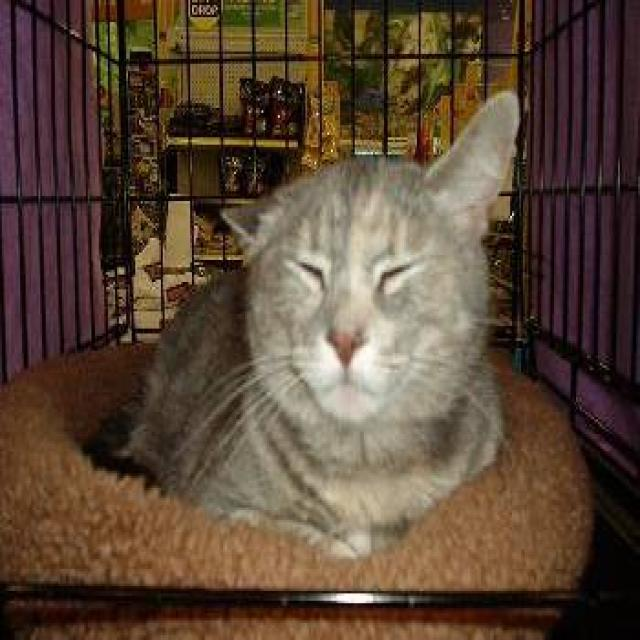Cat: (210, 80, 531, 452)
